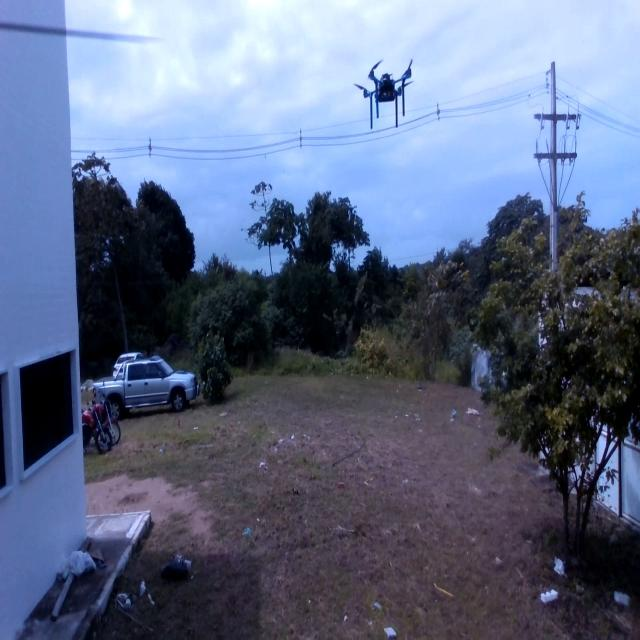-uav-: (340, 43, 429, 133)
